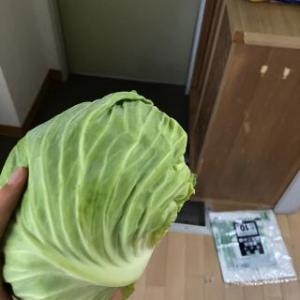cabbage: (0, 88, 200, 300)
